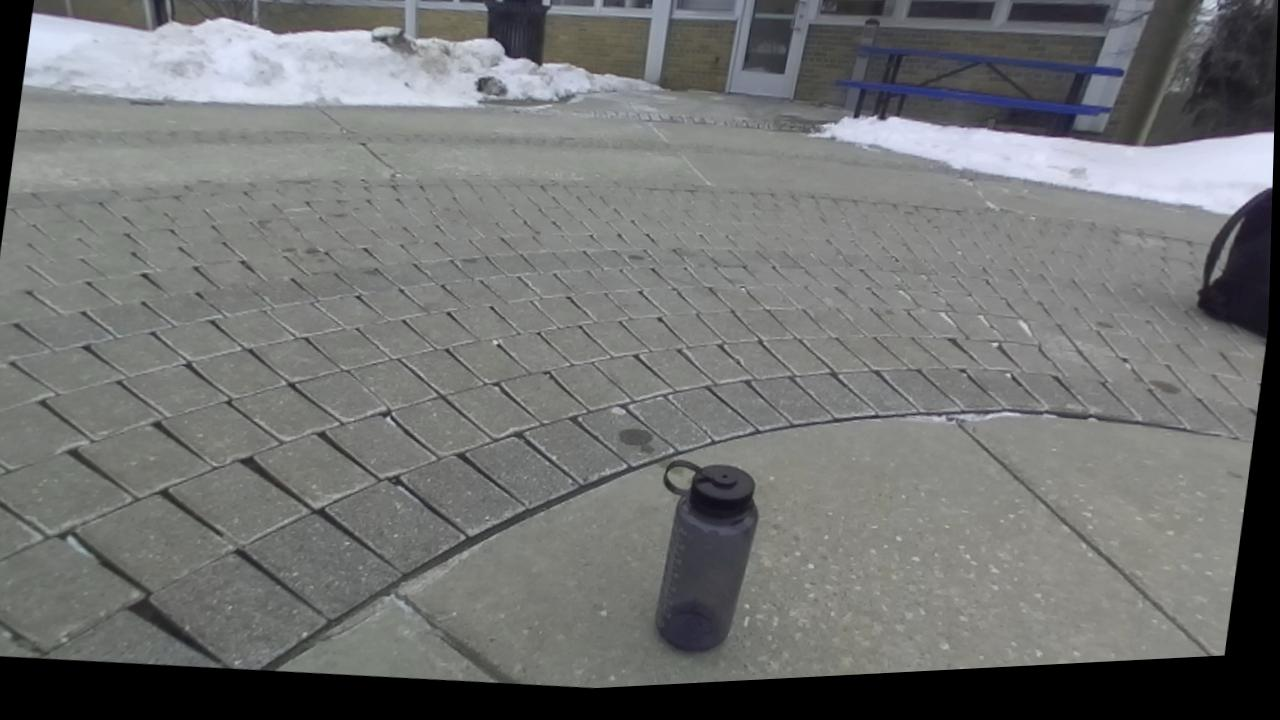bottle: (656, 459, 756, 651)
